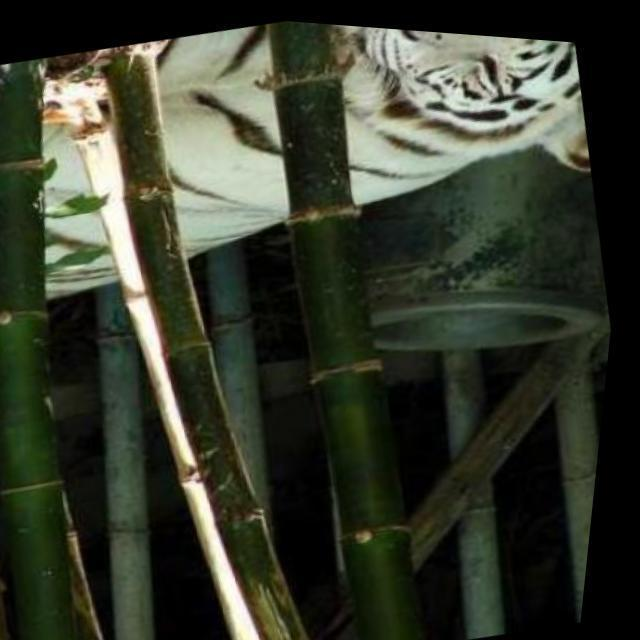tiger: (36, 22, 592, 296)
